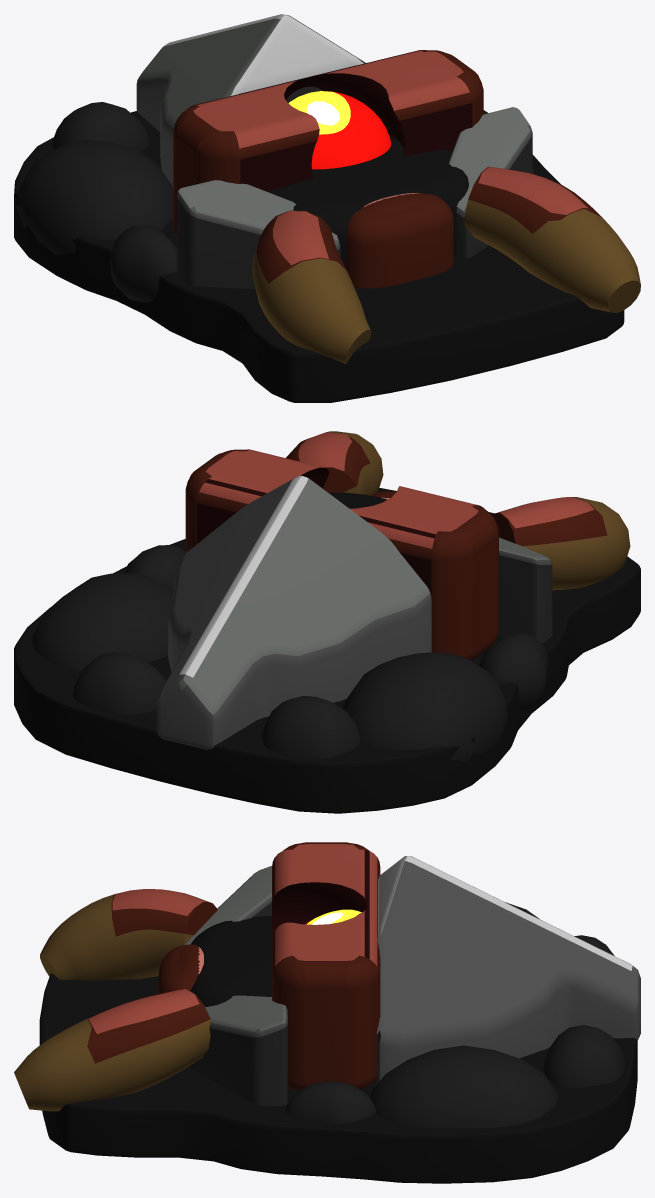
File: hood_turret_155.glb
3 renders of one model, top to bottom at view 1: azimuth 30°, elevation 25°; view 2: azimuth 150°, elevation 25°; view 3: azimuth 270°, elevation 25°, orthographic. The views are drawn at different scales.
Parts seen in each view (by area): view 1: pit, band, claw1, hood, boulder0, claw0, cheek1, chin, core, cheek-1, eye, boulder4 (+1 smaller); view 2: hood, pit, band, boulder0, boulder3, claw0, cheek1, boulder1, boulder2, claw1, boulder4, boulder5 (+1 smaller); view 3: pit, hood, band, claw1, boulder3, claw0, cheek-1, core, boulder2, boulder5, cheek1, chin (+1 smaller).
Part boxes in pixels (x1=…): pit: x1=14, y1=110, x2=624, y2=402; band: x1=173, y1=50, x2=483, y2=238; claw1: x1=464, y1=166, x2=640, y2=312; hood: x1=136, y1=14, x2=365, y2=192; boulder0: x1=16, y1=140, x2=173, y2=255; claw0: x1=252, y1=210, x2=371, y2=363; cheek1: x1=176, y1=180, x2=340, y2=289; chin: x1=346, y1=193, x2=453, y2=288; core: x1=268, y1=134, x2=468, y2=269; cheek-1: x1=449, y1=107, x2=532, y2=258; eye: x1=288, y1=91, x2=391, y2=169; boulder4: x1=110, y1=225, x2=176, y2=302; hood: x1=156, y1=475, x2=431, y2=749; pit: x1=14, y1=488, x2=640, y2=813; band: x1=185, y1=449, x2=498, y2=660; boulder0: x1=342, y1=652, x2=508, y2=762; boulder3: x1=31, y1=572, x2=173, y2=671; claw0: x1=492, y1=497, x2=630, y2=590; cheek1: x1=497, y1=537, x2=552, y2=643; boulder1: x1=262, y1=696, x2=360, y2=758; boulder2: x1=73, y1=652, x2=166, y2=714; claw1: x1=286, y1=431, x2=383, y2=495; boulder4: x1=479, y1=633, x2=548, y2=711; boulder5: x1=124, y1=545, x2=185, y2=590; pit: x1=39, y1=973, x2=637, y2=1183; hood: x1=377, y1=856, x2=640, y2=1083; band: x1=272, y1=842, x2=380, y2=1090; claw1: x1=14, y1=988, x2=210, y2=1111; boulder3: x1=370, y1=1045, x2=557, y2=1128; claw0: x1=40, y1=889, x2=217, y2=980; cheek-1: x1=189, y1=995, x2=287, y2=1106; core: x1=190, y1=916, x2=272, y2=1006; boulder2: x1=543, y1=1025, x2=624, y2=1087; boulder5: x1=286, y1=1081, x2=375, y2=1123; cheek1: x1=185, y1=866, x2=271, y2=944; chin: x1=158, y1=944, x2=203, y2=994.
Bounding box in the file's own units: 22.14 × 10.59 × 27.53.
